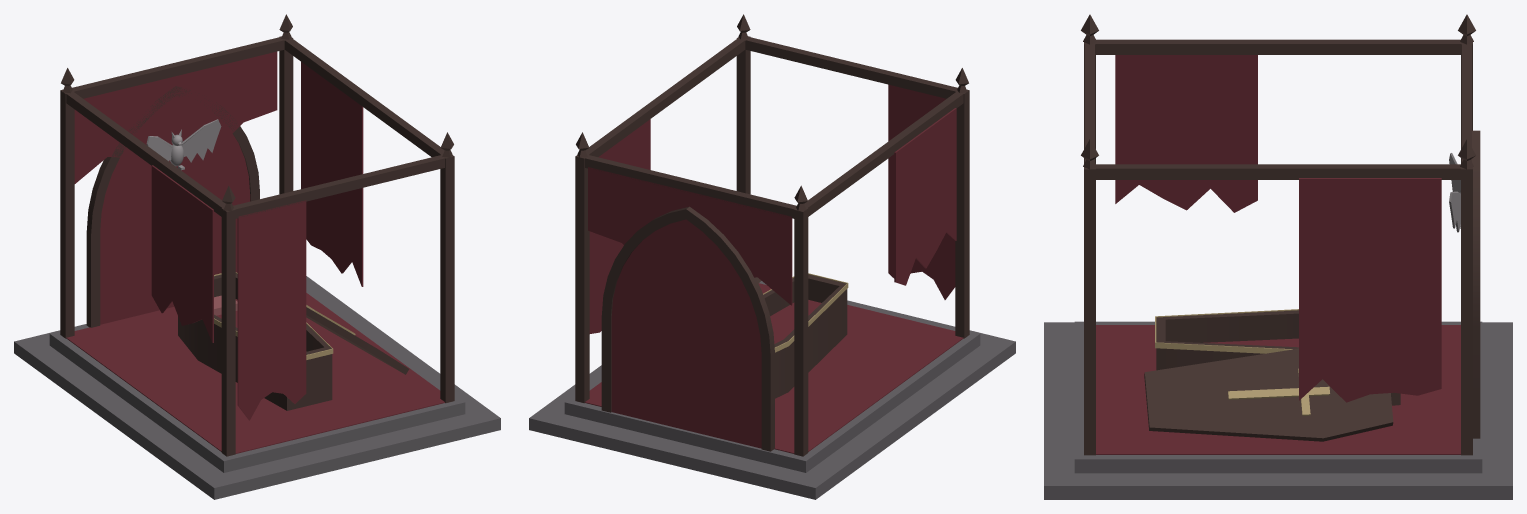
Rendered from coffin_bed.glb.
3 renders of one model, left to right at view 1: azimuth 30°, elevation 25°; view 2: azimuth 150°, elevation 25°; view 3: azimuth 270°, elevation 25°, orthographic. The views are drawn at different scales.
Parts seen in each view (by area): view 1: CoffinBed; view 2: CoffinBed; view 3: CoffinBed.
Part boxes in pixels (x1=…): CoffinBed: x1=14, y1=14, x2=500, y2=499; CoffinBed: x1=529, y1=14, x2=1015, y2=499; CoffinBed: x1=1044, y1=14, x2=1512, y2=499.
Size of the model in its own units: 3.8 by 3.7 by 4.6.
